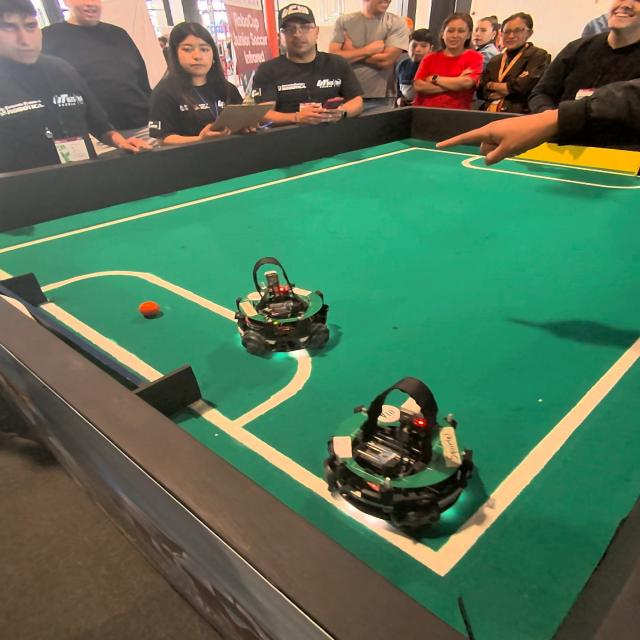Robot: (315, 369, 498, 552), (232, 254, 338, 364)
pelota: (139, 302, 161, 320)
